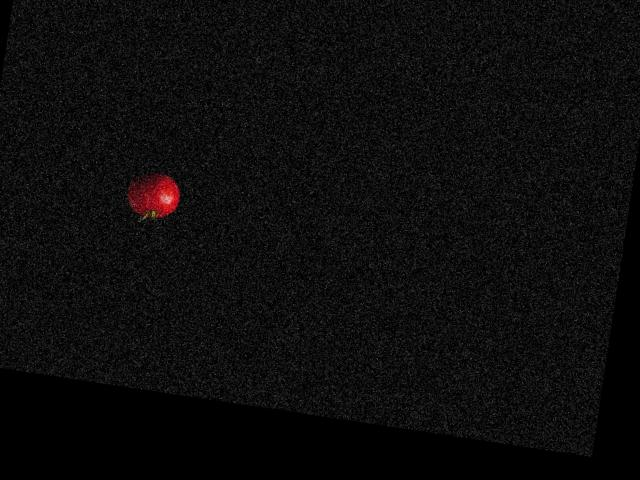tomato: (124, 169, 182, 220)
